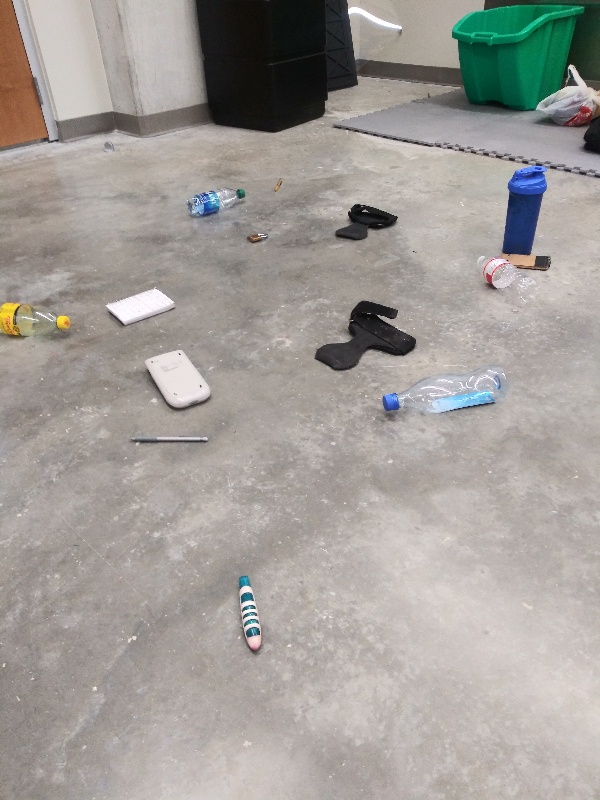bottle: (382, 365, 511, 418), (475, 251, 540, 308), (1, 297, 77, 341), (183, 185, 249, 216)
